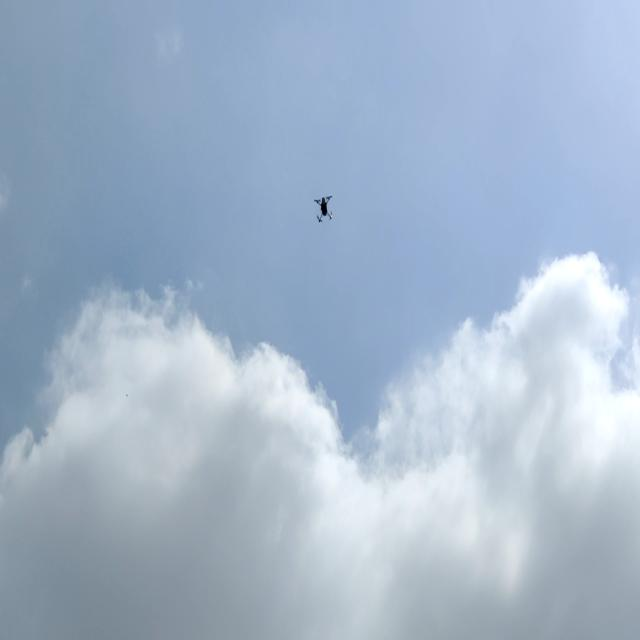drone: (308, 190, 339, 231)
